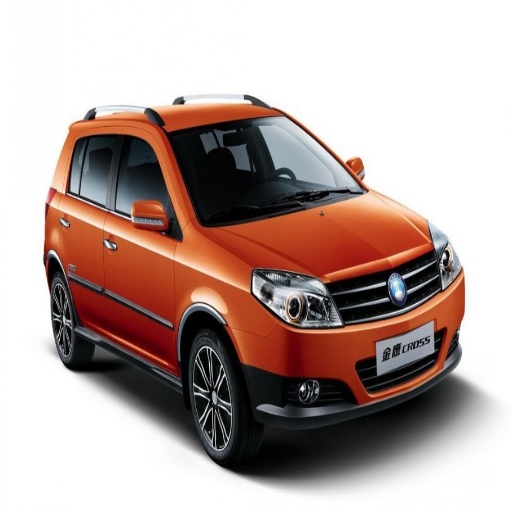front_bumper: (231, 261, 463, 425)
front_right_door: (103, 132, 179, 359)
front_right_light: (252, 270, 341, 329)
hood: (207, 192, 435, 321)
